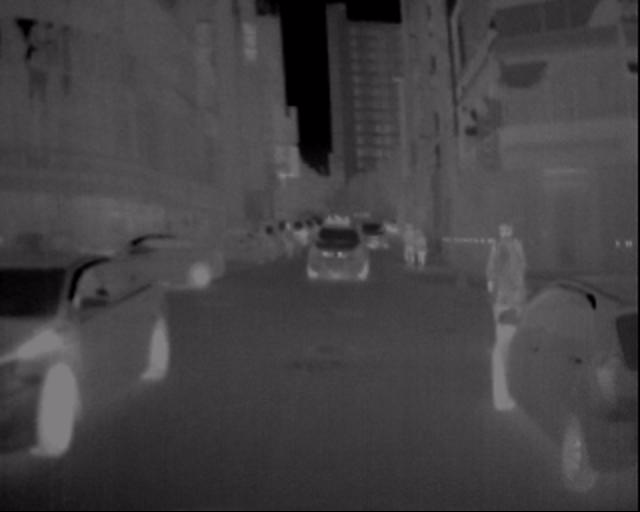person: (475, 204, 534, 351), (409, 206, 438, 283), (393, 213, 413, 274)
